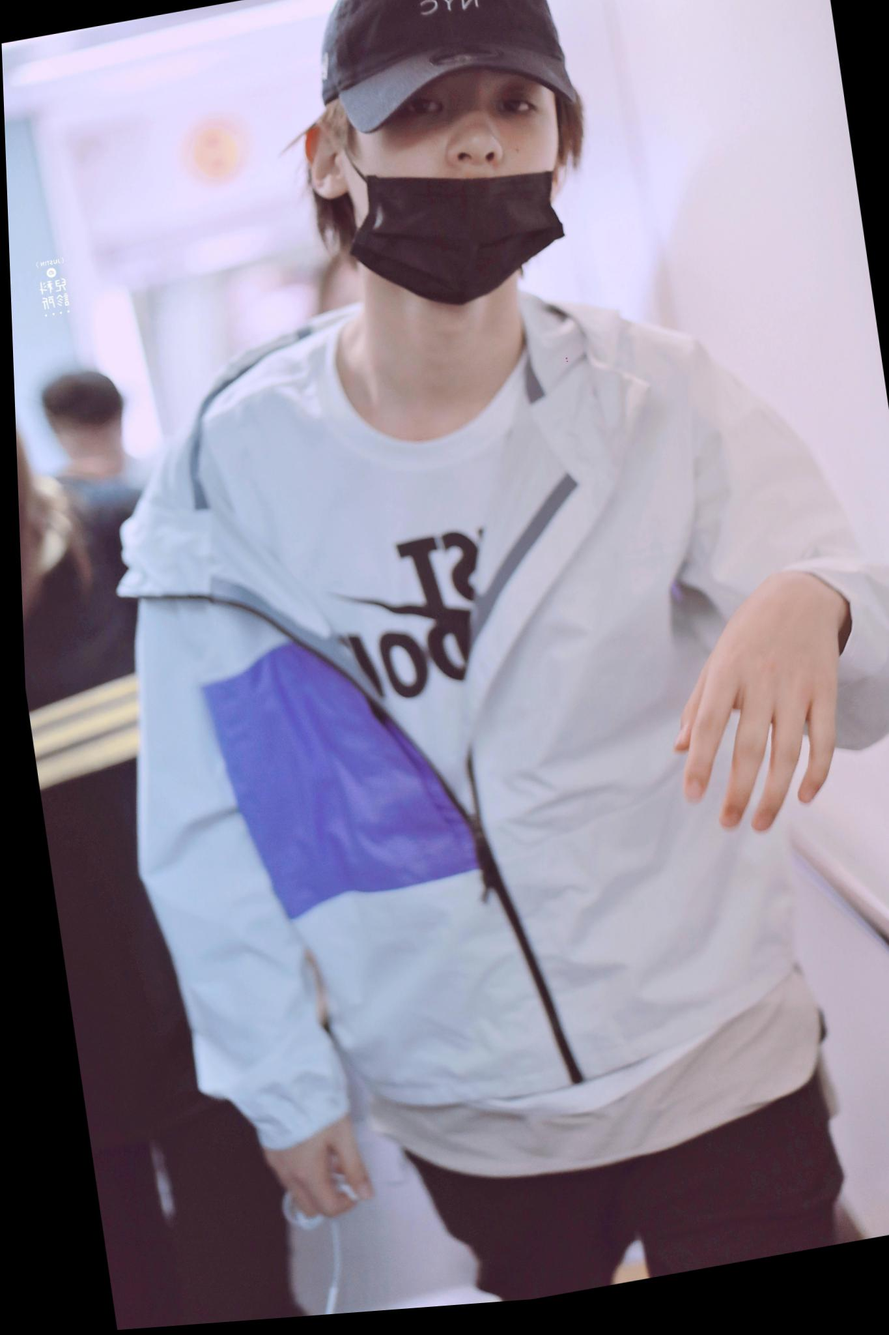WRONG: (343, 37, 574, 323)
